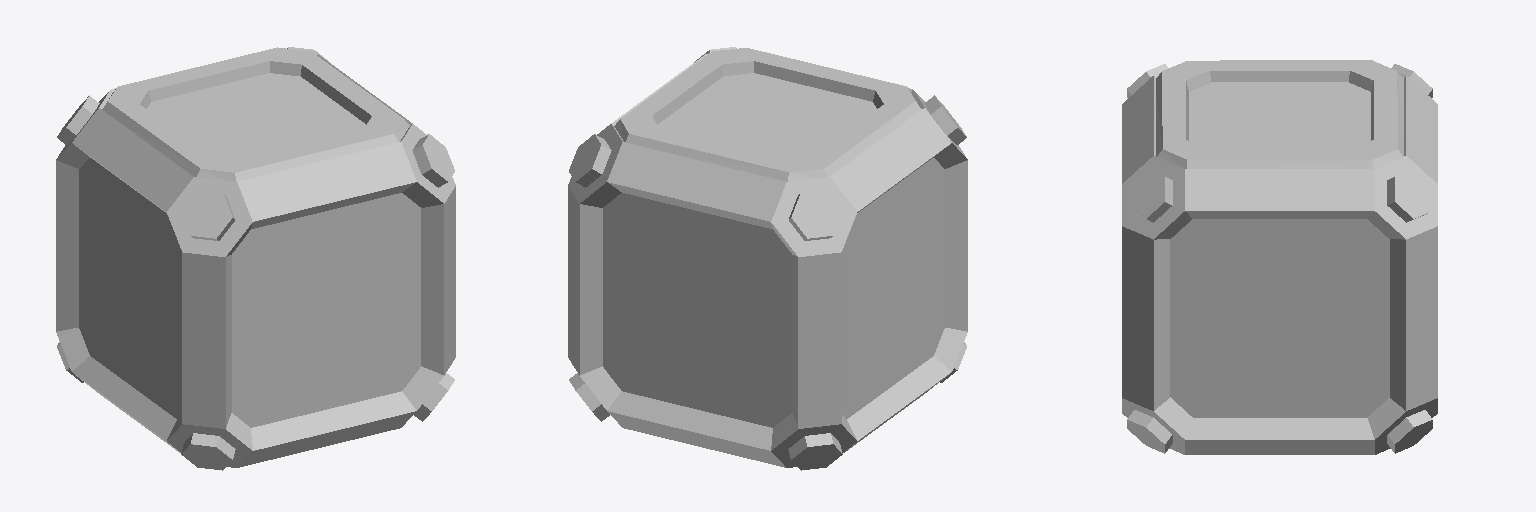
3 views of the same model, side by side, from view 1: azimuth 30°, elevation 25°; view 2: azimuth 150°, elevation 25°; view 3: azimuth 270°, elevation 25° (orthographic).
Parts seen in each view (by area): view 1: SM_Prop_Crate_03, SM_Prop_Crate_Lid_01; view 2: SM_Prop_Crate_03, SM_Prop_Crate_Lid_01; view 3: SM_Prop_Crate_03, SM_Prop_Crate_Lid_01.
Part boxes in pixels (x1,y1,x2,y2): SM_Prop_Crate_03: (56, 47, 455, 470); SM_Prop_Crate_Lid_01: (102, 47, 409, 181); SM_Prop_Crate_03: (568, 47, 967, 470); SM_Prop_Crate_Lid_01: (614, 48, 921, 181); SM_Prop_Crate_03: (1122, 64, 1437, 454); SM_Prop_Crate_Lid_01: (1156, 60, 1403, 168).
Bounding box in the file's own units: 1.03 × 1.05 × 1.03.